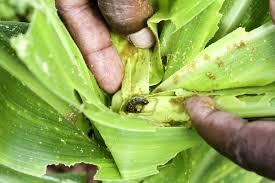fallarmy_worm: (124, 93, 154, 116)
